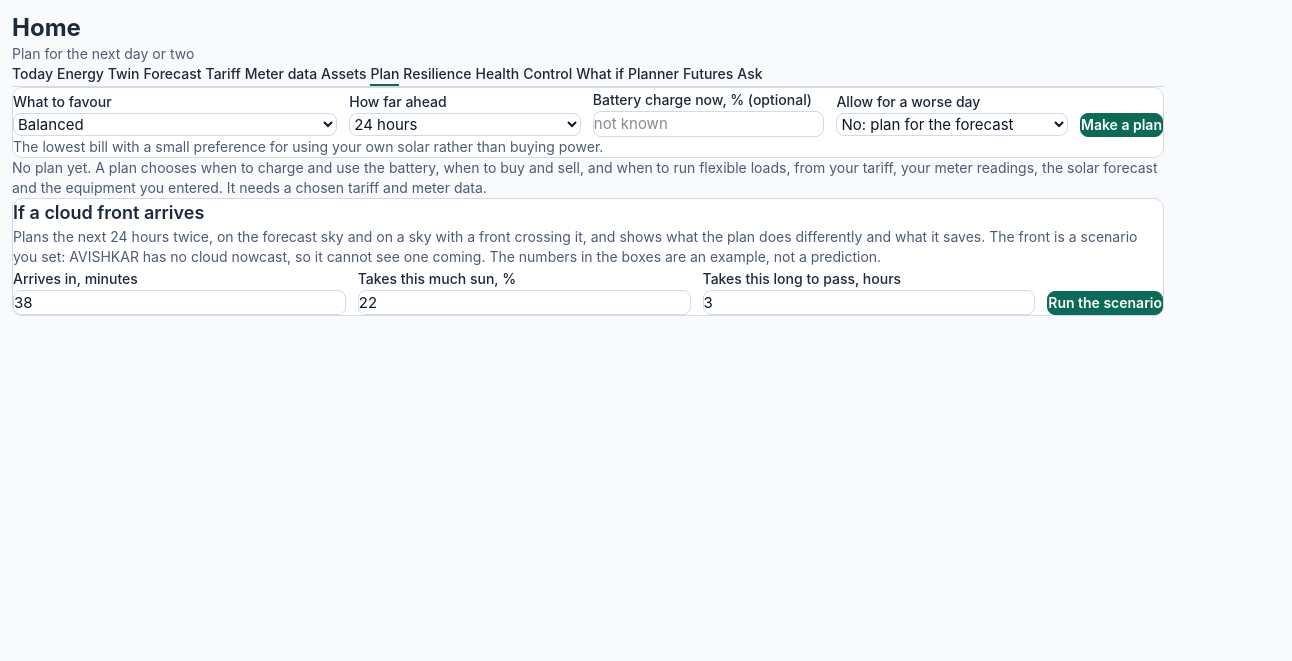
Test: PlanView › makes a plan in the chosen mode, with the charge entered, and shows it
Check: the text "No plan yet" is shown, box [12,158,1158,196]
Select "Save money" in the dropdown labelled "What to favour" at (175, 125), box [13,113,337,136]
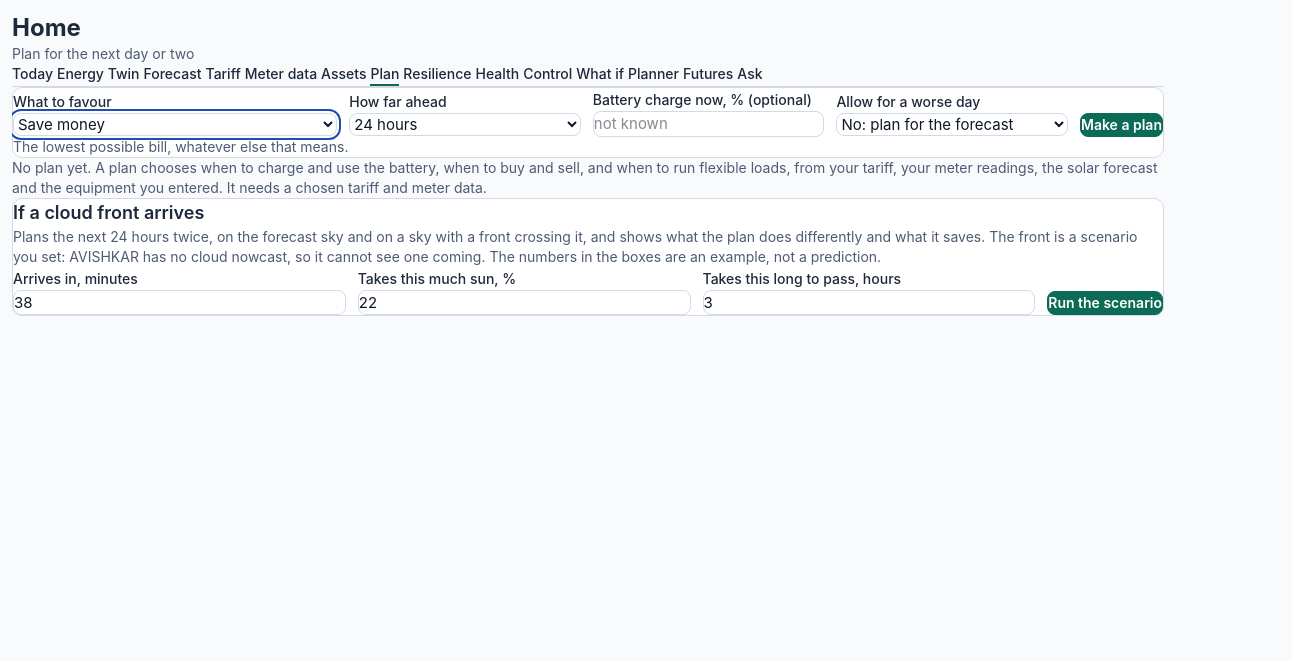
Select "48 hours" in the dropdown labelled "How far ahead" at (465, 125), box [349,113,581,136]
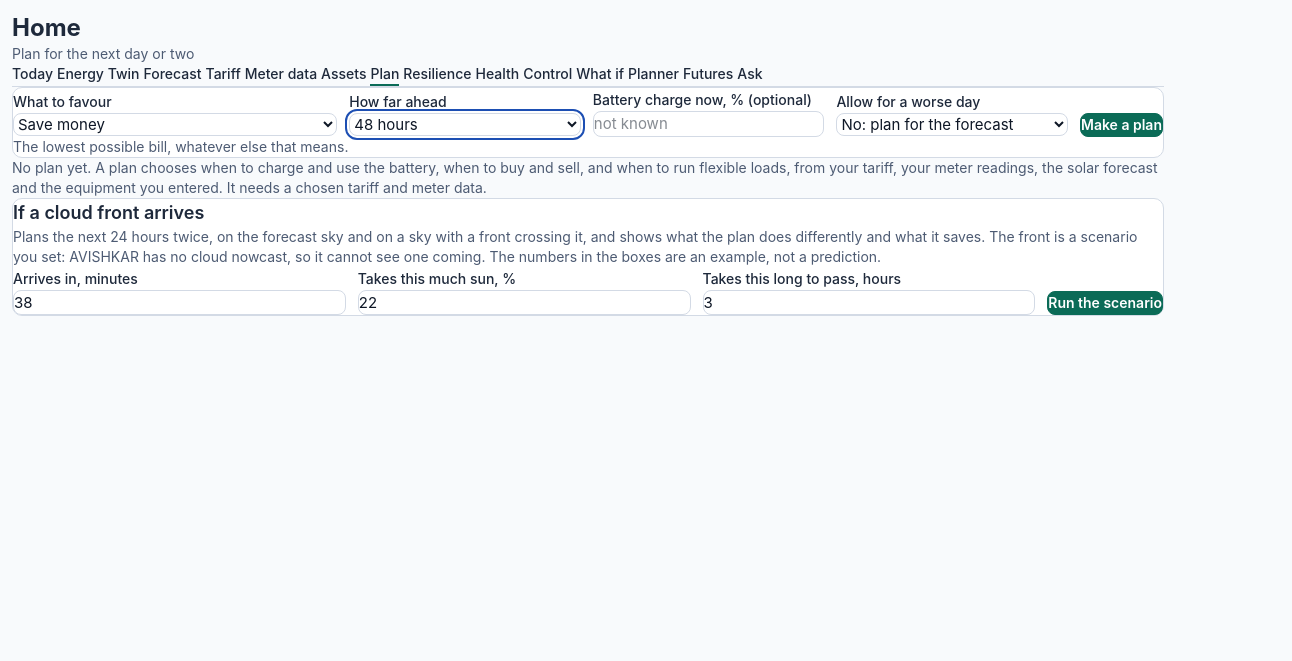
Type "80" into the field labelled "Battery charge now, % (optional)" at (709, 124), box [593,111,824,137]
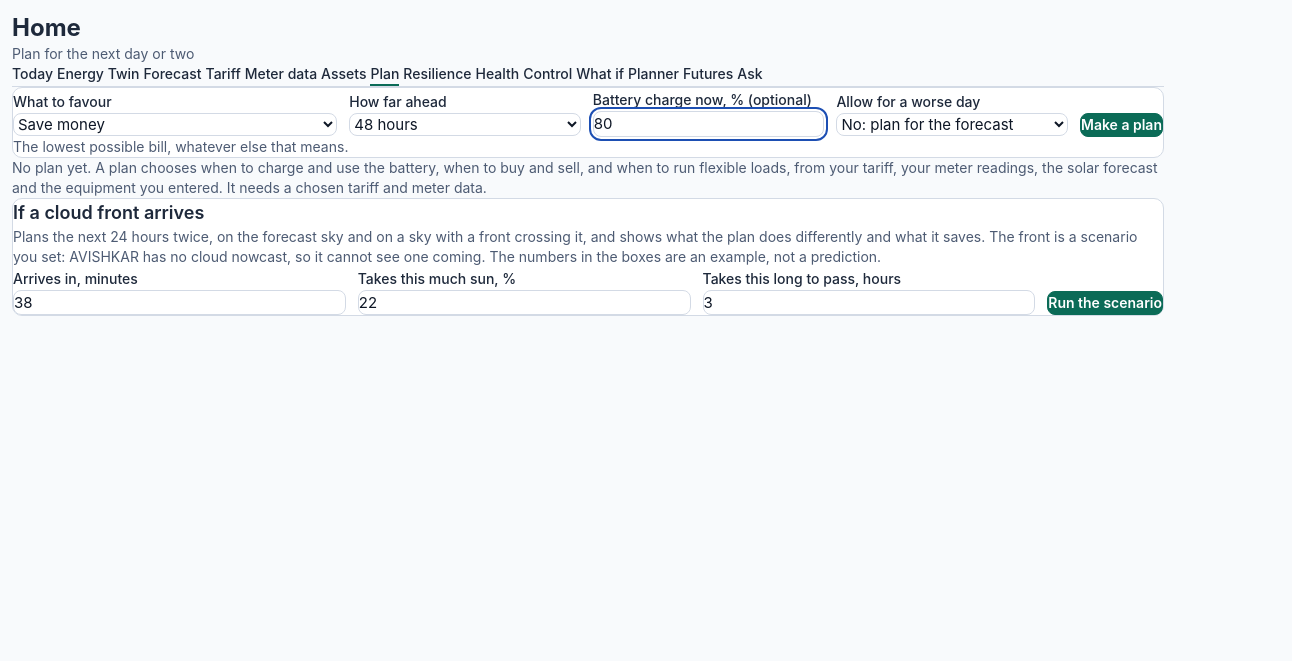
Check: the text "The lowest possible bill, whatever else that means." is shown, box [13,138,348,154]
Click the button "Make a plan" at (1122, 125), box [1080,113,1163,136]
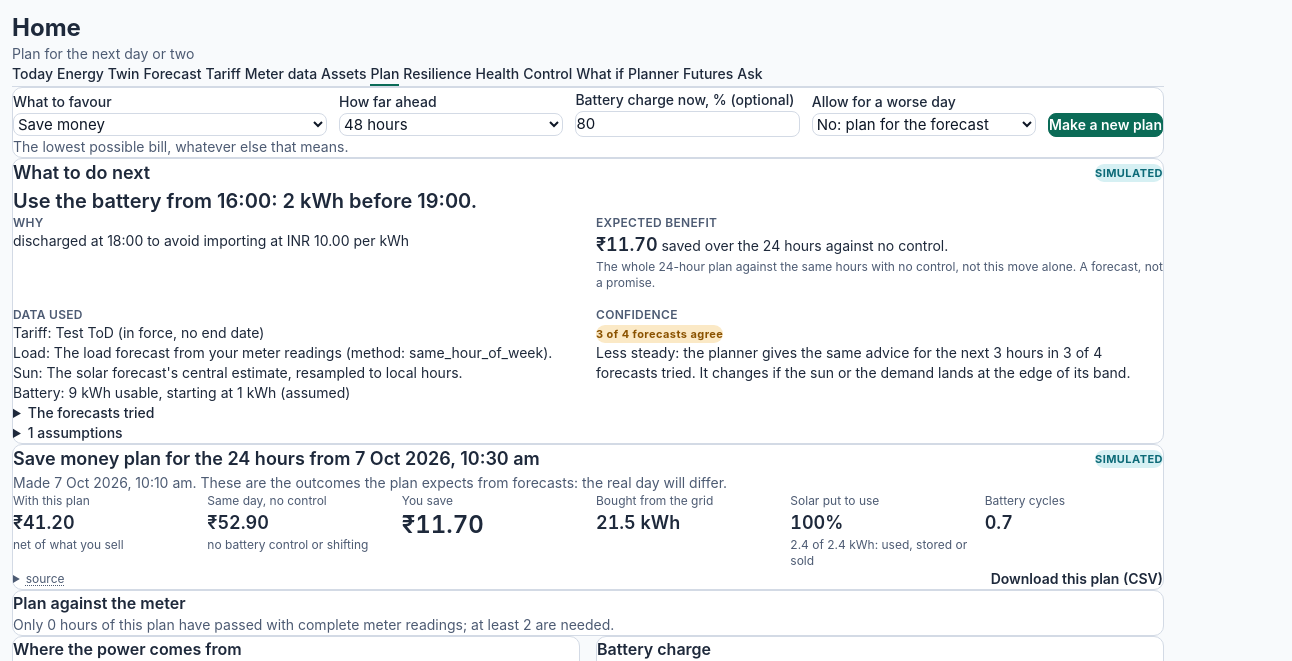
Check: the element named "Plan outcome" is shown, box [12,444,1164,590]
Check: the button "Make a new plan" is shown, box [1048,113,1163,136]
